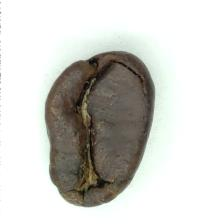NG: (65, 54, 142, 193)
